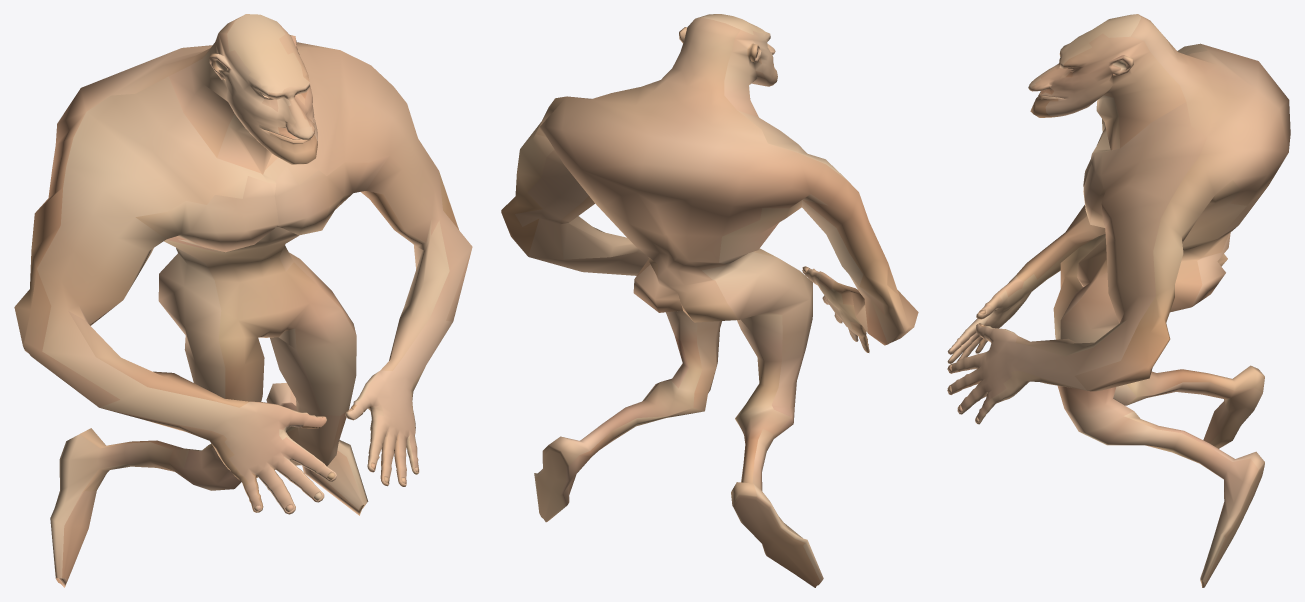
File: JumpStance.obj
3 renders of one model, left to right at view 1: azimuth 30°, elevation 25°; view 2: azimuth 150°, elevation 25°; view 3: azimuth 270°, elevation 25°, orthographic. The views are drawn at different scales.
Visible parts, largest first — view 1: soldiersoldier120; view 2: soldiersoldier120; view 3: soldiersoldier120.
Boxes of the visible parts, x1,y1,x2,y2 form: soldiersoldier120: (14, 14, 472, 587); soldiersoldier120: (501, 14, 918, 587); soldiersoldier120: (947, 14, 1290, 587).
Size of the model in its own units: 3.12 by 3.81 by 2.35.
1 material, 1 textured.
